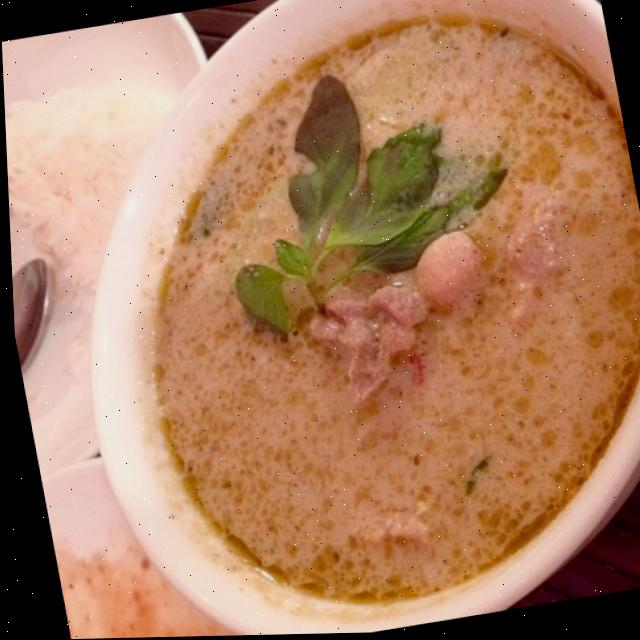熟制海鲜: (181, 25, 501, 362)
